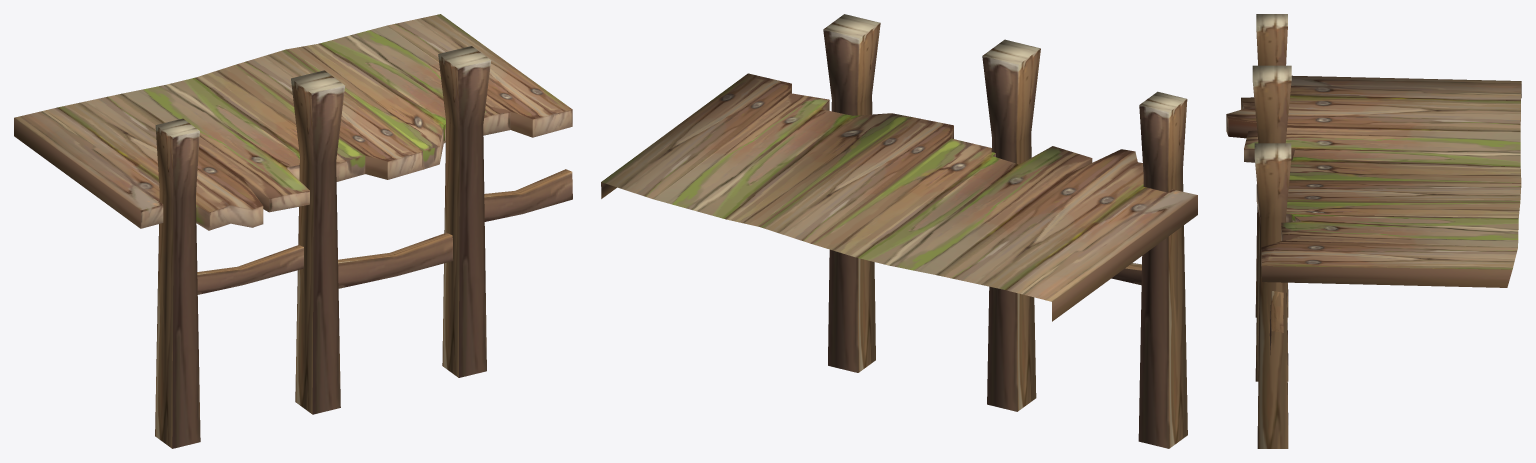
Rendered from Map_06_wharf02.FBX.
3 views of the same model, side by side, from view 1: azimuth 30°, elevation 25°; view 2: azimuth 150°, elevation 25°; view 3: azimuth 270°, elevation 25° (orthographic). The views are drawn at different scales.
Parts seen in each view (by area): view 1: Map_06_wharf02; view 2: Map_06_wharf02; view 3: Map_06_wharf02.
Boxes of the visible parts, x1,y1,x2,y2 form: Map_06_wharf02: [14, 14, 572, 448]; Map_06_wharf02: [601, 14, 1197, 448]; Map_06_wharf02: [1226, 14, 1521, 448].
Bounding box in the file's own units: 726 × 462 × 522.
